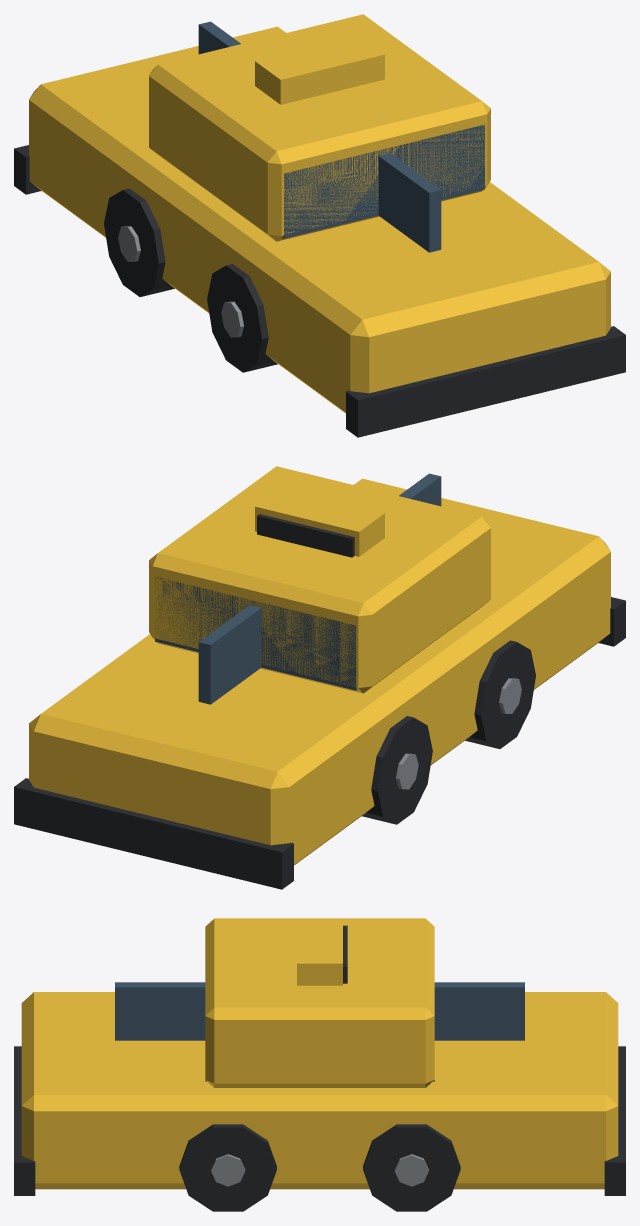
The model's file is vehicle.taxi.glb.
3 views of the same model, one above another, from view 1: azimuth 30°, elevation 25°; view 2: azimuth 150°, elevation 25°; view 3: azimuth 270°, elevation 25° (orthographic). The views are drawn at different scales.
Parts seen in each view (by area): view 1: vehicle.taxi; view 2: vehicle.taxi; view 3: vehicle.taxi.
Part boxes in pixels (x1,y1,x2,y2): vehicle.taxi: (14,14,625,437); vehicle.taxi: (14,466,625,889); vehicle.taxi: (14,918,625,1211).
Size of the model in its own units: 1.89 by 1.52 by 4.
